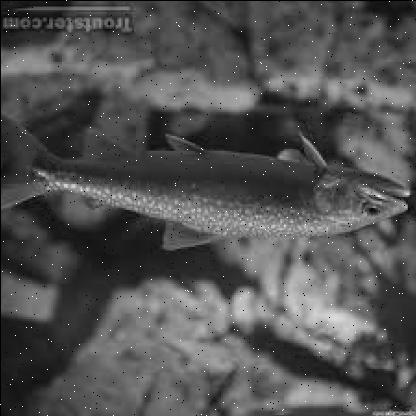fish: (2, 110, 415, 252)
